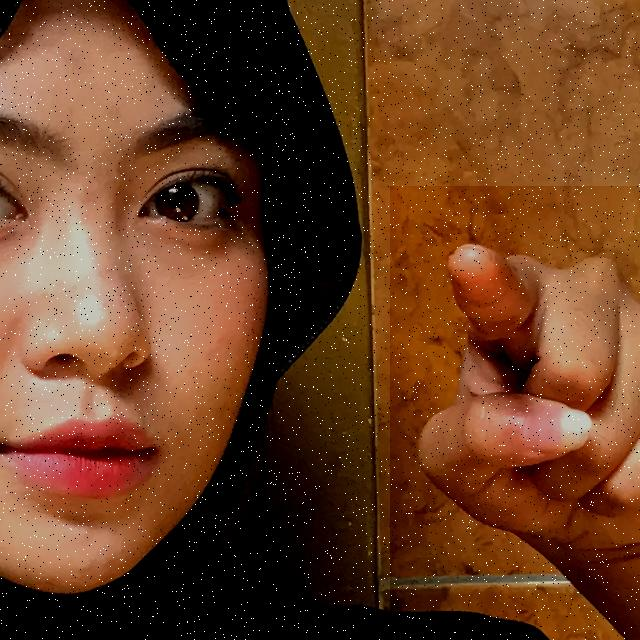kamu: (390, 186, 640, 640)
